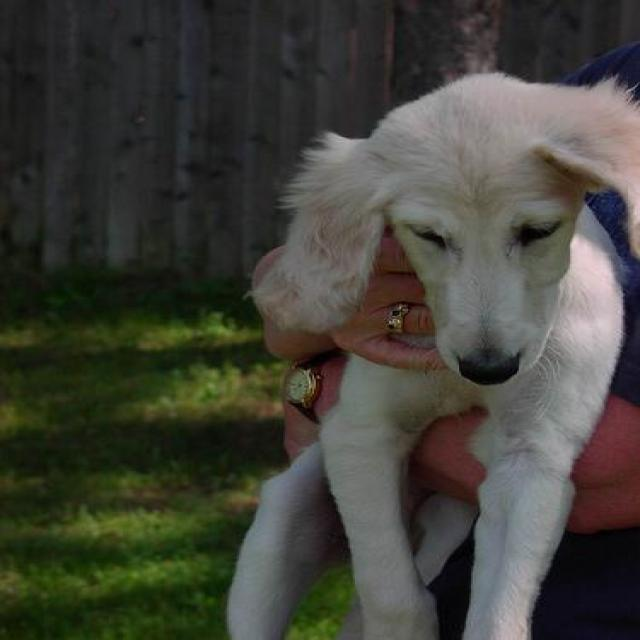saluki: (216, 68, 636, 637)
